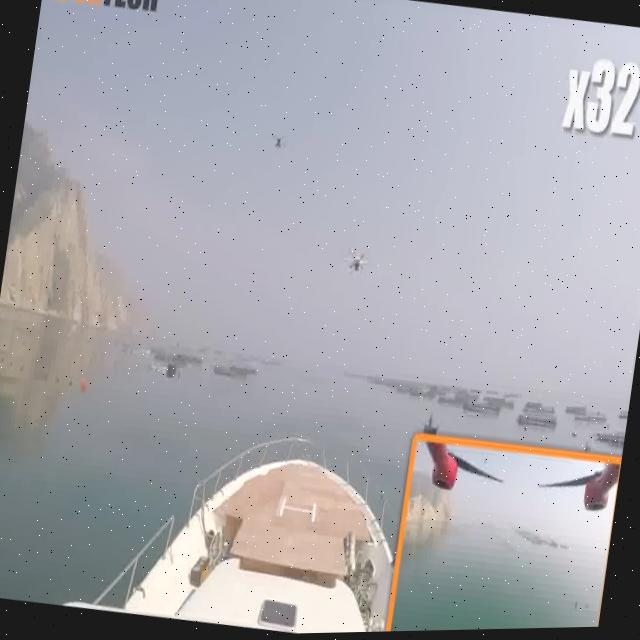drone: (334, 234, 378, 283)
